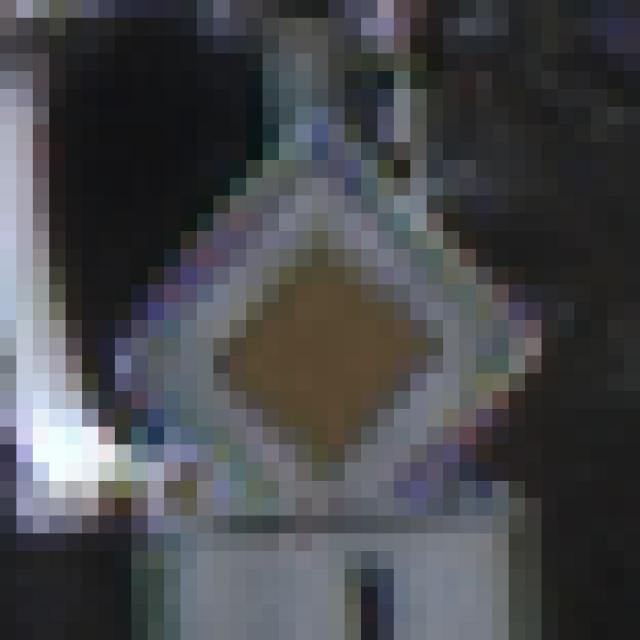Main Road: (99, 90, 559, 552)
